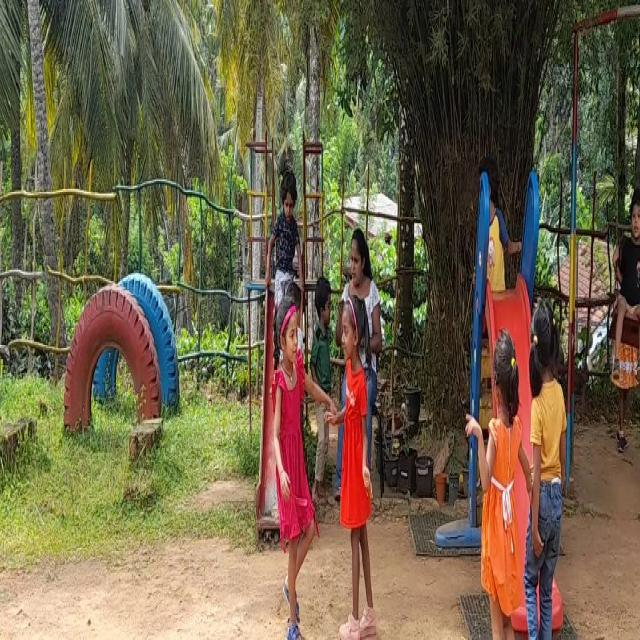child: (518, 303, 570, 640), (269, 296, 314, 640), (478, 343, 526, 640), (336, 307, 378, 638), (613, 179, 640, 385)
